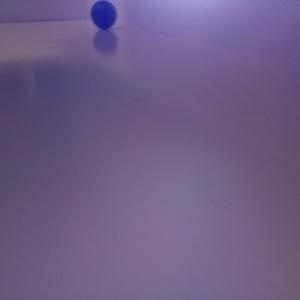dead_ball: (89, 1, 117, 29)
